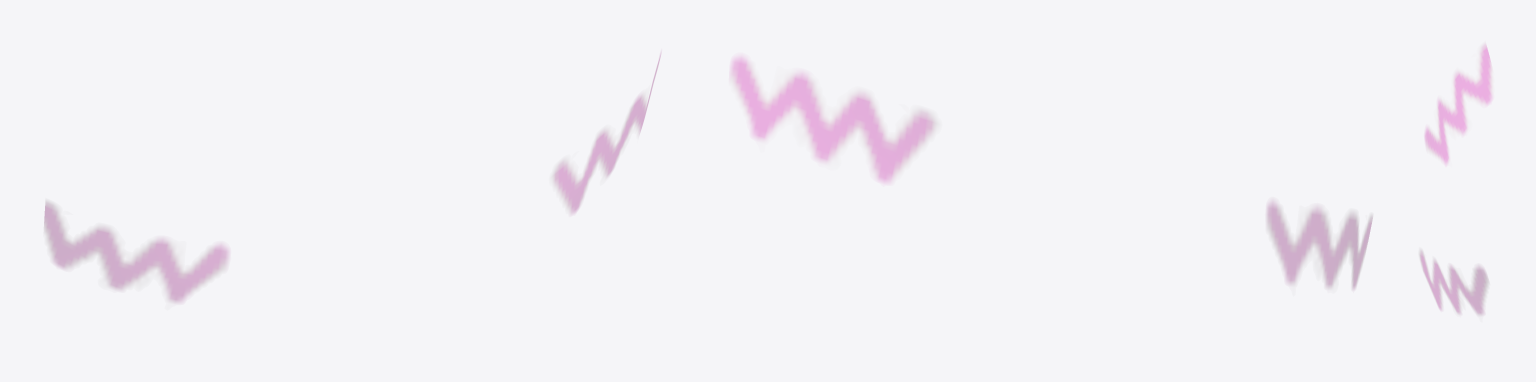
File: Cheeks 3.glb
3 views of the same model, side by side, from view 1: azimuth 30°, elevation 25°; view 2: azimuth 150°, elevation 25°; view 3: azimuth 270°, elevation 25° (orthographic). The views are drawn at different scales.
Visible parts, largest first — view 1: Cheeks_3; view 2: Cheeks_3; view 3: Cheeks_3.
Part boxes in pixels (left/top/right/bottom): Cheeks_3: left=44, top=54, right=660, bottom=302; Cheeks_3: left=730, top=58, right=1372, bottom=288; Cheeks_3: left=1419, top=43, right=1492, bottom=314.
Bounding box in the file's own units: 0.00587 × 0.00202 × 0.00121.
Materials: 1 (1 with a texture image).
